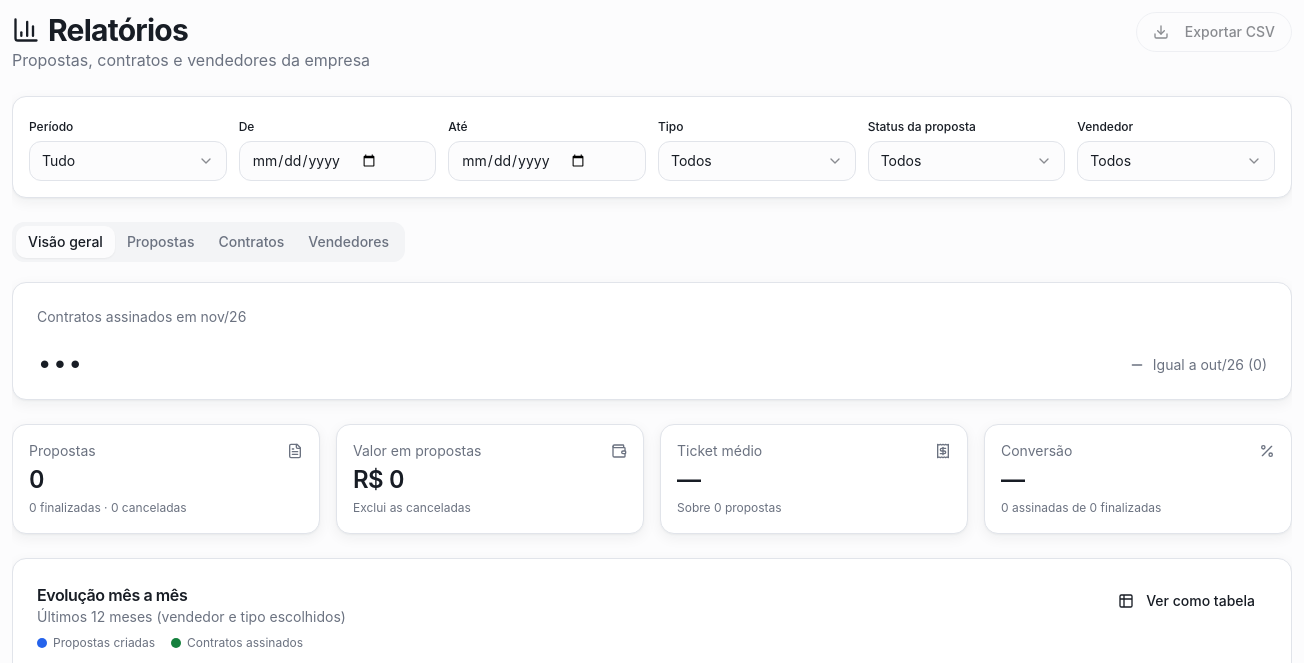
Test: página de Relatórios com gráficos › aba Vendedores (administrador): valor e conversão por vendedor
Expected: the heading "Evolução mês a mês" is shown, [37,585,187,605]
Press the mouse on the tab "Vendedores" at (349, 242), box [296,226,401,258]
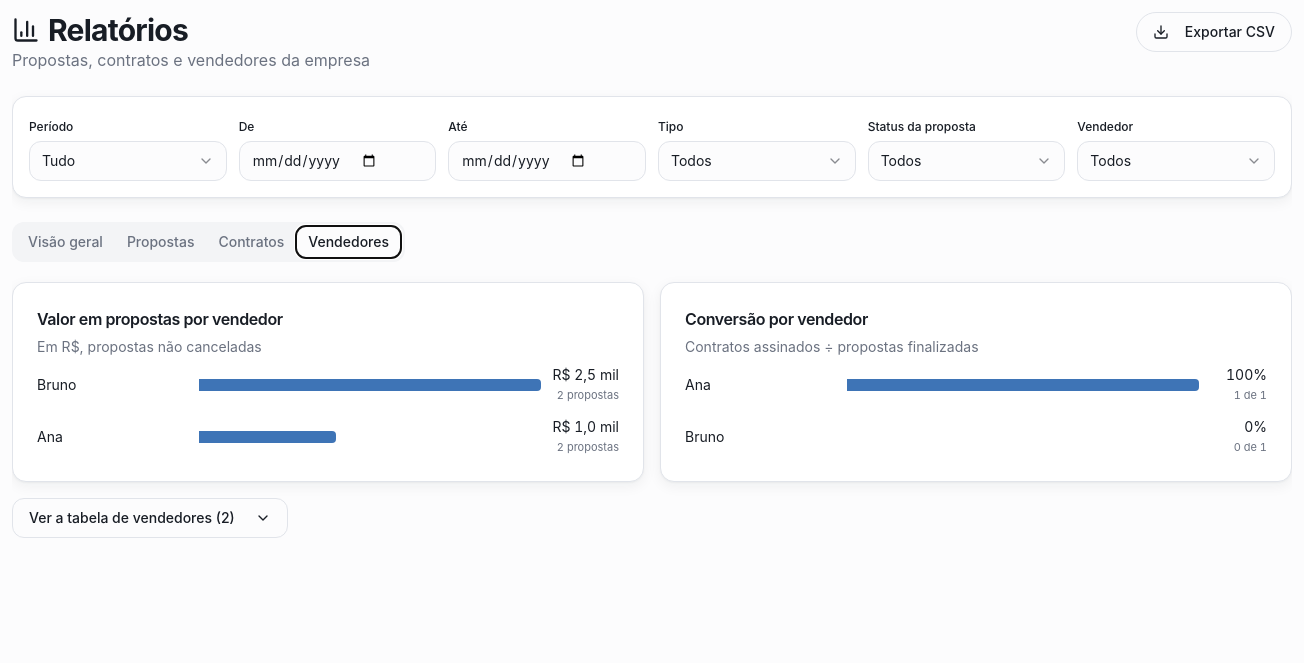
Expected: the heading "Valor em propostas por vendedor" is shown, [37,309,283,329]
Expected: the heading "Conversão por vendedor" is shown, [685,309,868,329]
Expected: the button "Ver a tabela de vendedores (2)" is shown, [12,498,288,538]
